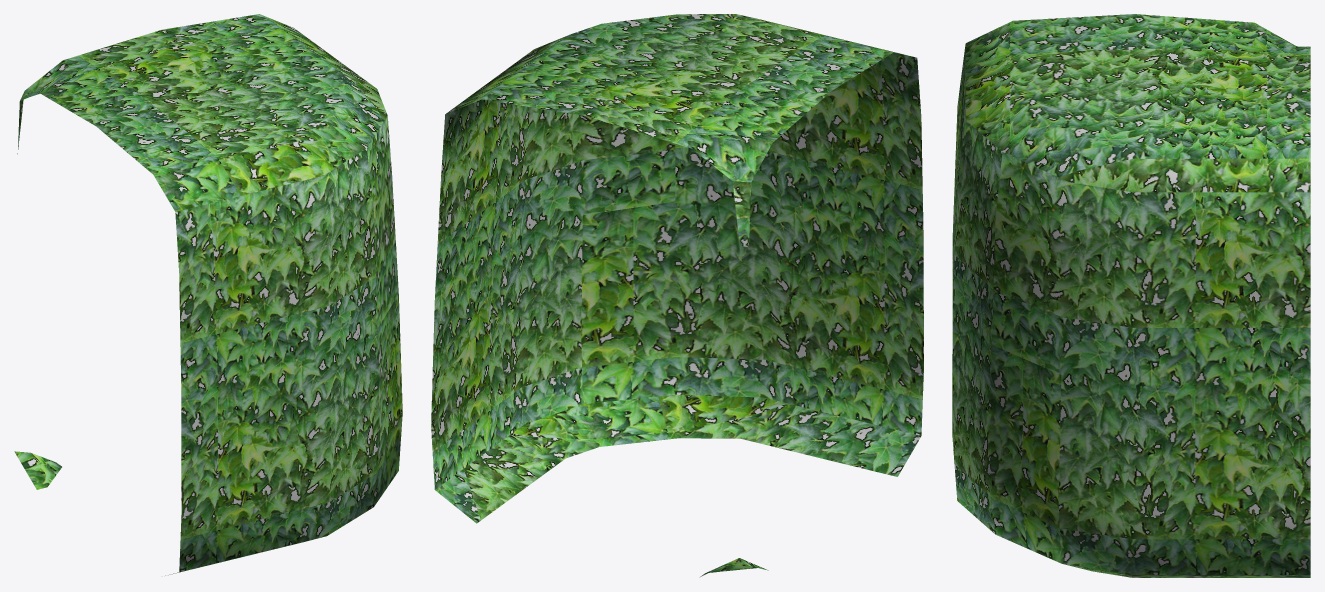
Rendered from shrub_L.obj.
3 views of the same model, side by side, from view 1: azimuth 30°, elevation 25°; view 2: azimuth 150°, elevation 25°; view 3: azimuth 270°, elevation 25° (orthographic). The views are drawn at different scales.
Bounding box in the file's own units: 2.03 × 2.69 × 2.02.
